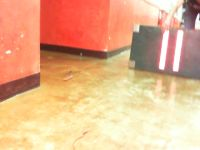switch: (171, 29, 183, 72), (158, 30, 169, 70)
